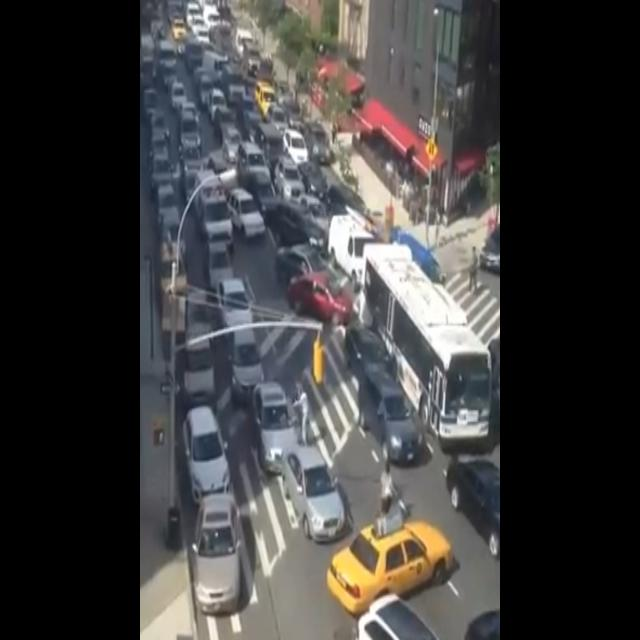Ambulance: (192, 163, 236, 254)
